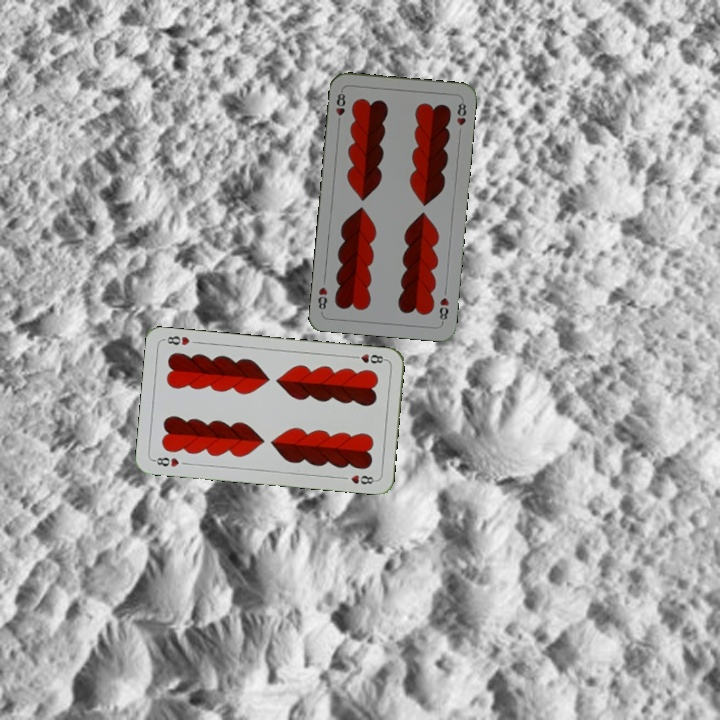H8: (332, 86, 348, 127), (348, 350, 389, 366), (435, 293, 452, 325), (149, 453, 182, 469)
